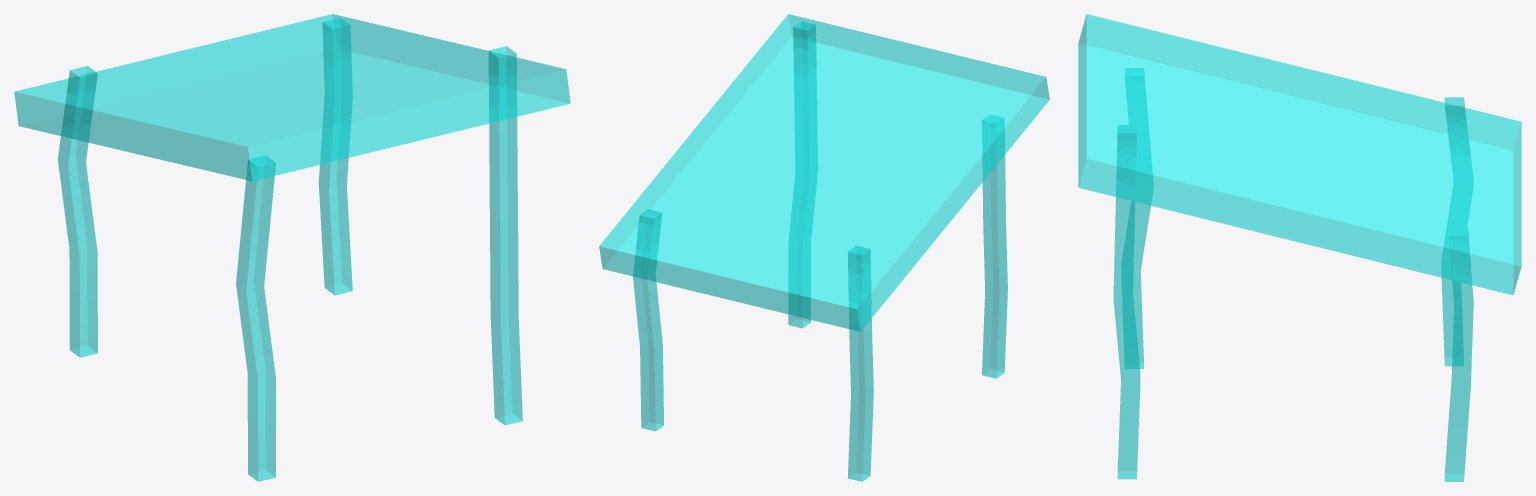
The model's file is SM_Bld_Rooftop_04_Collision.fbx.
3 views of the same model, side by side, from view 1: azimuth 30°, elevation 25°; view 2: azimuth 150°, elevation 25°; view 3: azimuth 270°, elevation 25° (orthographic). The views are drawn at different scales.
Parts seen in each view (by area): view 1: SM_Bld_Rooftop_04_Collision; view 2: SM_Bld_Rooftop_04_Collision; view 3: SM_Bld_Rooftop_04_Collision.
Part boxes in pixels (x1,y1,x2,y2): SM_Bld_Rooftop_04_Collision: (14, 14, 570, 481); SM_Bld_Rooftop_04_Collision: (599, 14, 1049, 481); SM_Bld_Rooftop_04_Collision: (1078, 14, 1521, 481).
Bounding box in the file's own units: 285 × 316 × 369.
